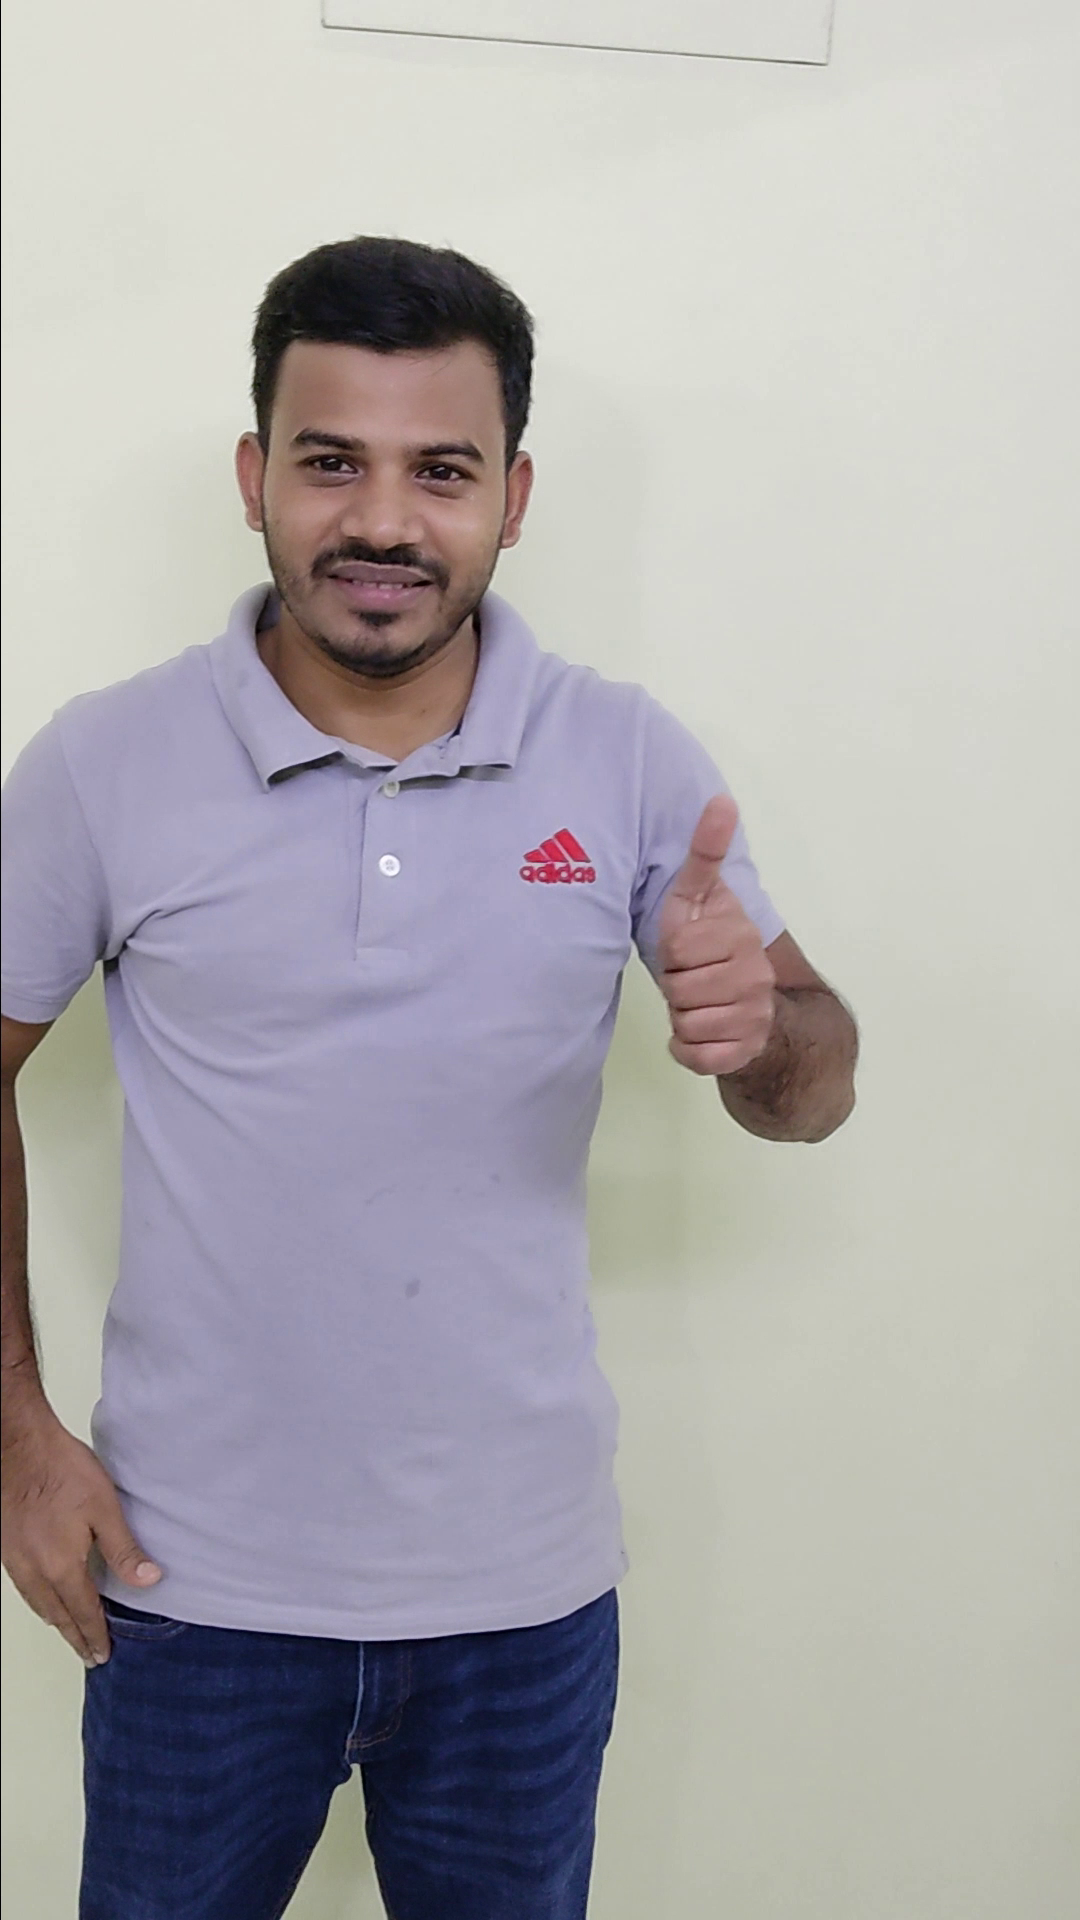Like: (624, 778, 796, 1087)
None: (3, 1395, 179, 1680)
